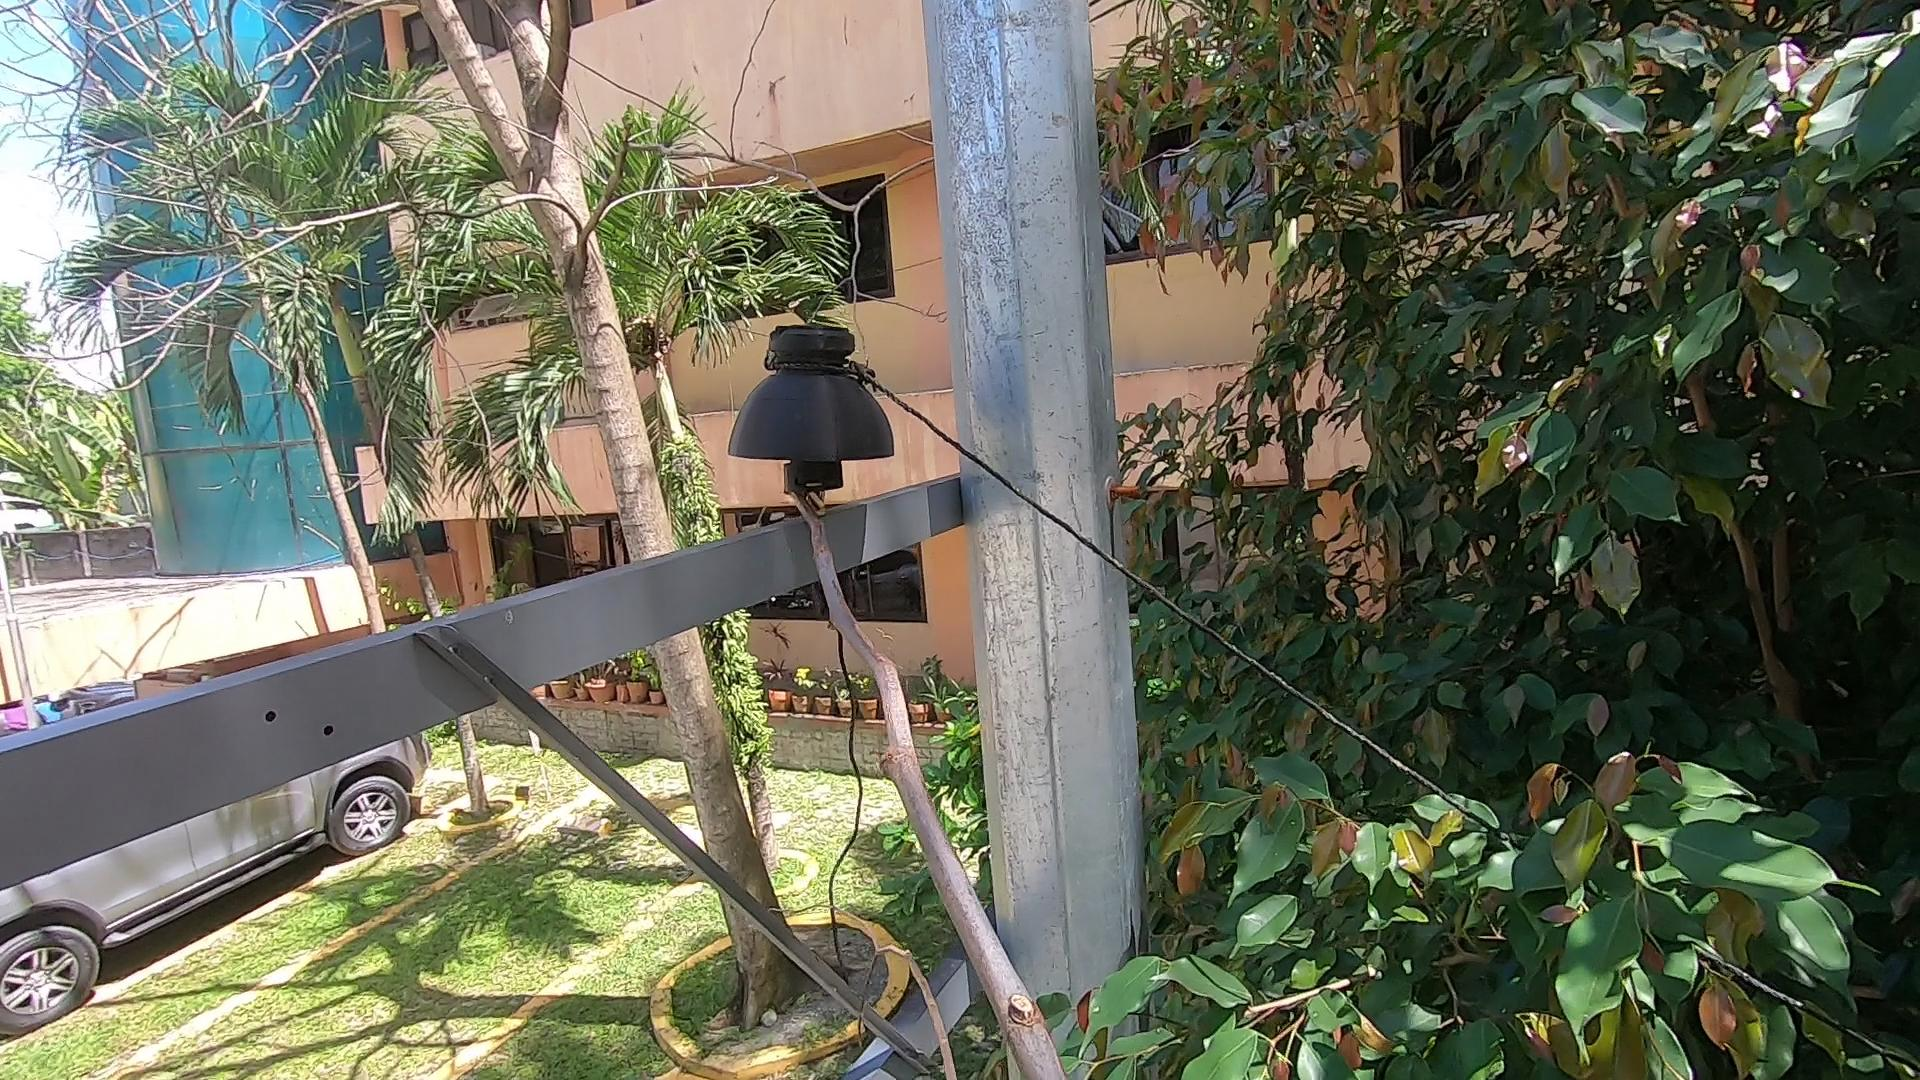branch with leaves: (1007, 959, 1262, 1080)
tree branch: (764, 448, 1093, 1080)
